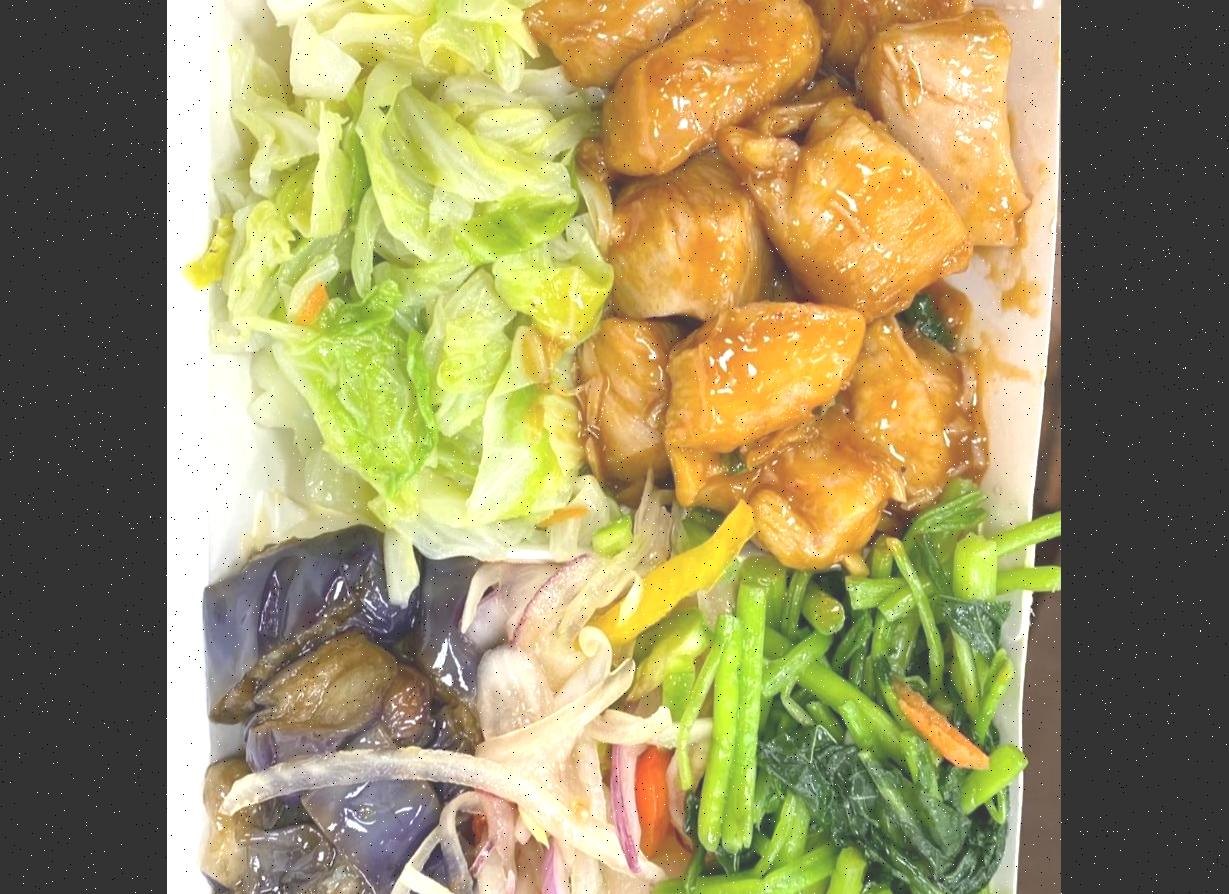box: (198, 0, 1057, 894)
side dish: (216, 0, 588, 541), (687, 559, 1018, 894), (192, 555, 478, 894), (459, 565, 687, 894)
spicy chicken: (550, 0, 1023, 557)
